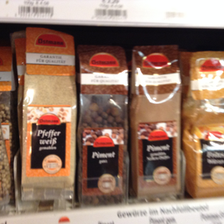spices: (20, 27, 78, 203), (131, 43, 184, 200), (78, 43, 130, 203), (186, 50, 224, 198)
